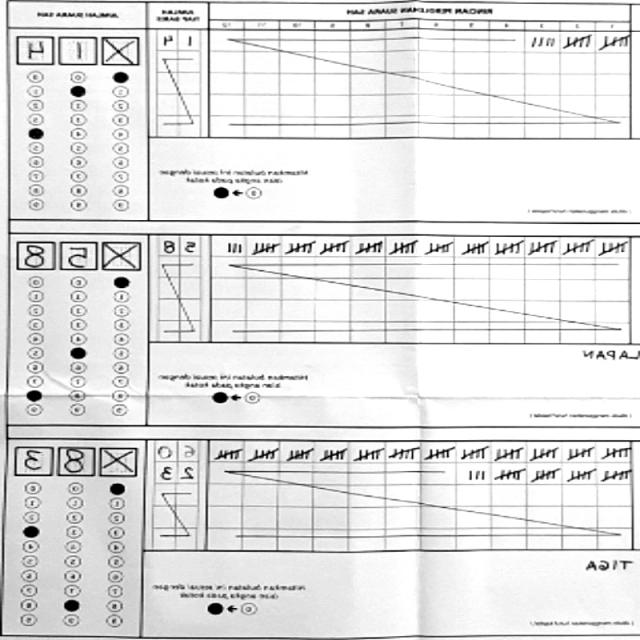Suara: (11, 438, 144, 478), (18, 235, 143, 271), (16, 30, 144, 64)
